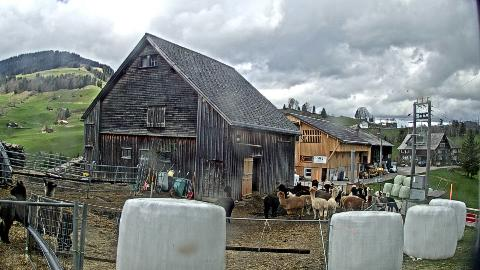car: (389, 165, 397, 173), (418, 162, 426, 166)
sheep: (10, 180, 74, 260), (0, 180, 58, 244), (215, 184, 235, 223), (264, 184, 286, 218), (278, 192, 304, 220), (310, 186, 328, 222), (287, 191, 313, 215), (342, 194, 373, 214), (326, 187, 340, 219), (383, 197, 401, 213), (302, 180, 318, 197), (286, 182, 302, 198), (368, 192, 382, 210), (361, 188, 373, 208), (352, 188, 364, 208), (358, 187, 368, 207), (349, 186, 359, 204), (380, 192, 390, 208)
